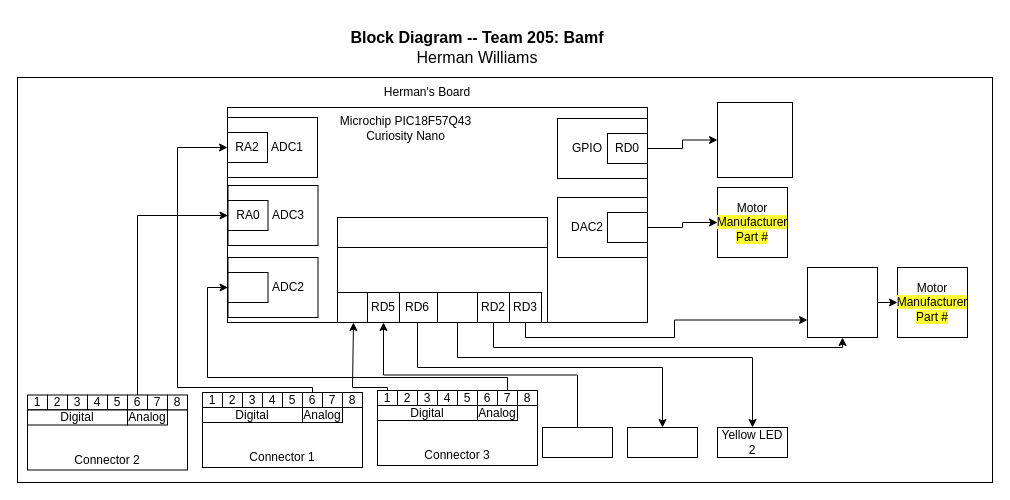
Some shapes in this 1010 by 500 pixel diagram are drawn without their labels. The centre of each missing label's shape, as x and y in pixels:
"Button 1" goes at pixel 577 442.
"Digital IO" goes at pixel 442 232.
"Electrical Solenoid Manufacturer Part #" goes at pixel 754 140.
"H-bridge Manufacturer Part #" goes at pixel 842 302.
"RA1" goes at pixel 247 287.
"RB0" goes at pixel 627 227.
"RB7" goes at pixel 353 307.
"RD7" goes at pixel 457 307.
"Yellow LED 1" goes at pixel 662 442.
